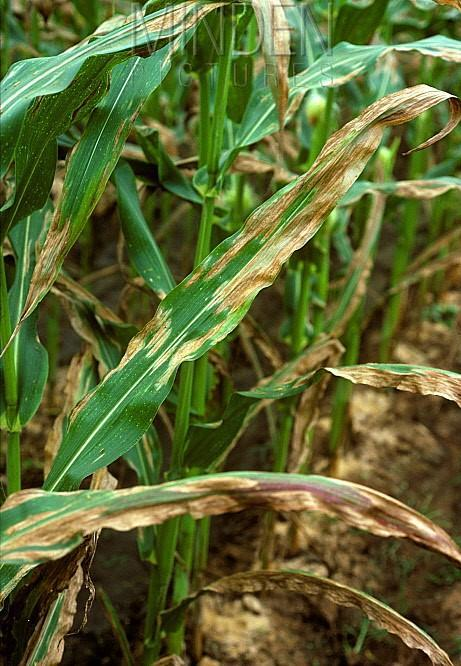Corn_Blight: (127, 31, 456, 311), (8, 470, 461, 585), (284, 324, 459, 426), (289, 596, 461, 665), (32, 165, 98, 339), (126, 335, 228, 404), (33, 603, 99, 660)
